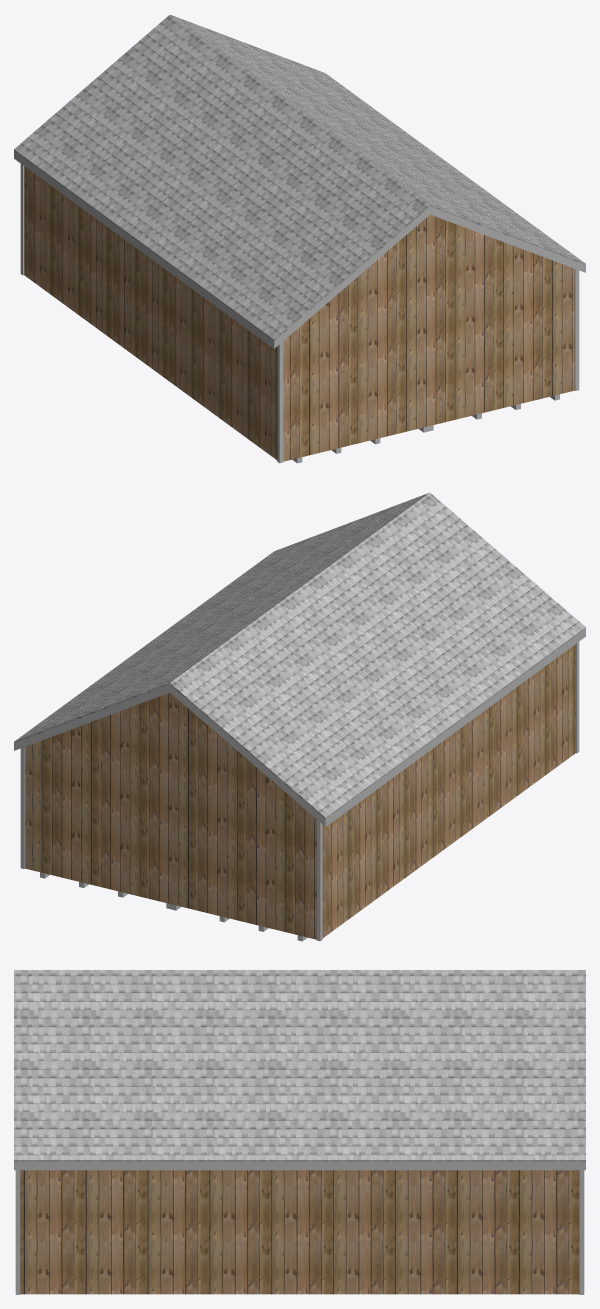
Rendered from Double Garage 6-12 PITCH ROOF_20x30.obj.
The picture shows the model from 3 angles, top to bottom: view 1: azimuth 30°, elevation 25°; view 2: azimuth 150°, elevation 25°; view 3: azimuth 270°, elevation 25°; orthographic projection. The views are drawn at different scales.
Parts seen in each view (by area): view 1: Roof, Shed, Sides, Trim; view 2: Roof, Shed, Sides, Trim; view 3: Roof, Shed, Sides, Trim.
Boxes of the visible parts, <box> form: Roof: <box>14,14,585,340</box>; Shed: <box>24,166,574,461</box>; Sides: <box>14,151,585,348</box>; Trim: <box>20,164,579,463</box>; Roof: <box>14,492,585,818</box>; Shed: <box>25,644,575,939</box>; Sides: <box>14,629,585,826</box>; Trim: <box>20,642,579,941</box>; Roof: <box>14,970,585,1161</box>; Shed: <box>20,1170,579,1294</box>; Sides: <box>14,1161,585,1170</box>; Trim: <box>15,1170,584,1294</box>.
Size of the model in its own units: 6.4 by 4.46 by 9.25.
